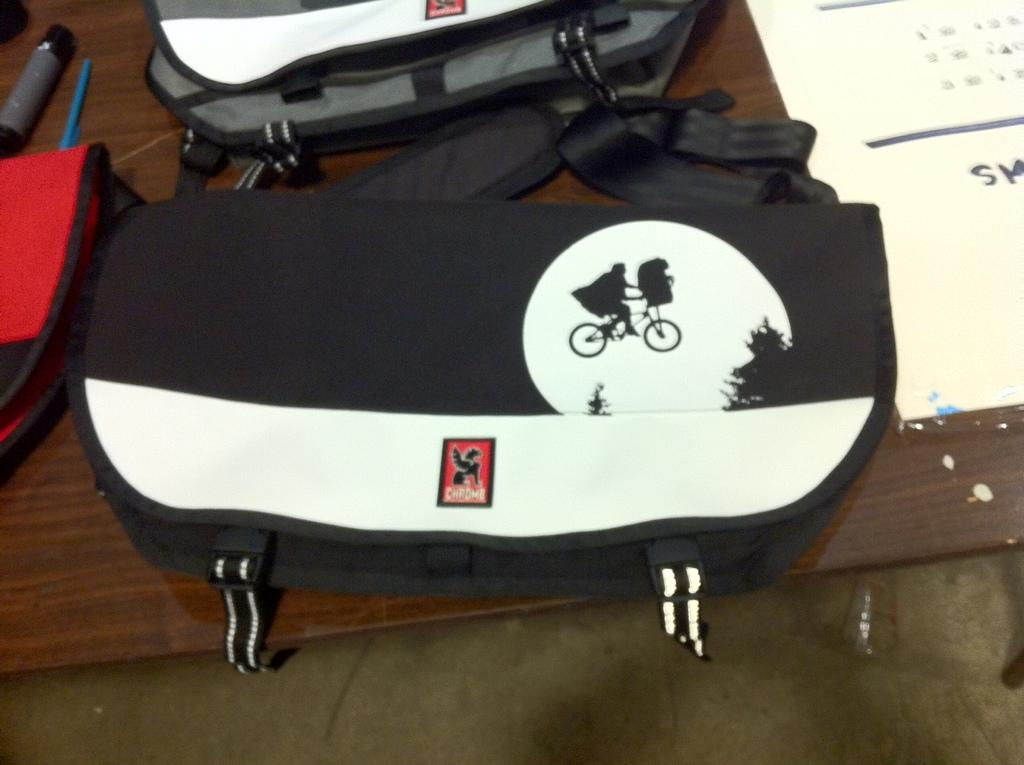Luggage-and-bags: (65, 83, 898, 680), (145, 0, 723, 194), (0, 139, 145, 476)
